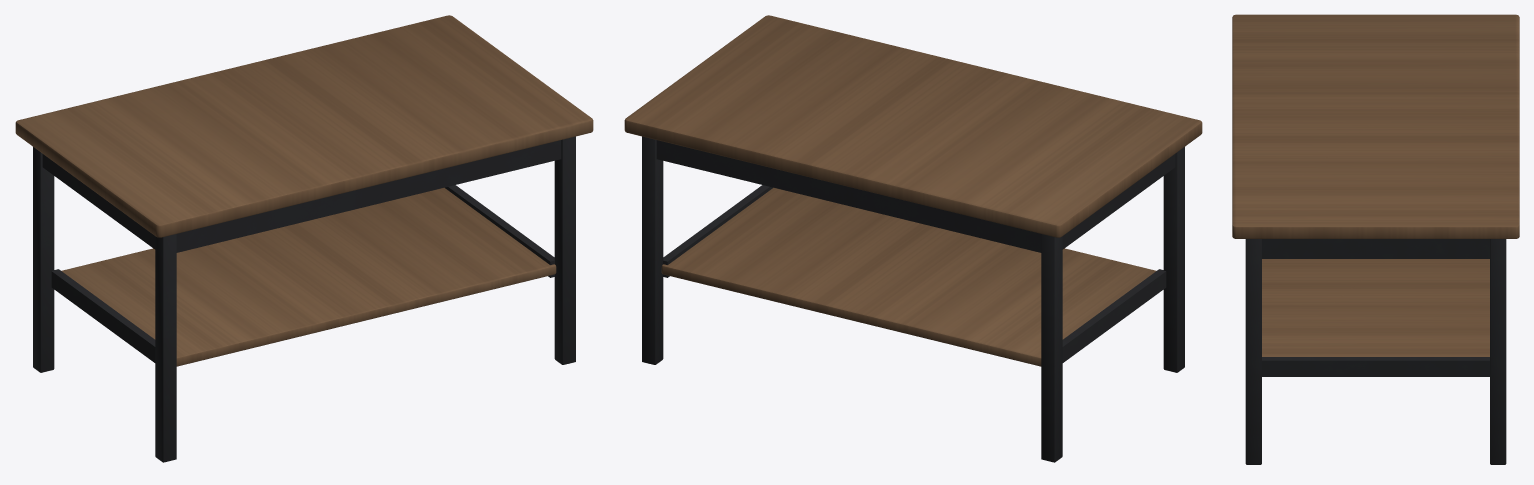
Rendered from merch_table.glb.
3 renders of one model, left to right at view 1: azimuth 30°, elevation 25°; view 2: azimuth 150°, elevation 25°; view 3: azimuth 270°, elevation 25°, orthographic.
Visible parts, largest first — view 1: Top, Lower_Shelf, Apron_F, Leg_01, Leg_02, Leg_04, Shelf_Rail_L, Apron_L, Shelf_Rail_R; view 2: Top, Lower_Shelf, Apron_B, Leg_04, Leg_03, Leg_01, Shelf_Rail_L, Apron_L, Shelf_Rail_R; view 3: Top, Lower_Shelf, Apron_R, Shelf_Rail_R, Leg_02, Leg_03.
Part boxes in pixels (<box>): Top: <box>15,15,593,237</box>; Lower_Shelf: <box>61,187,556,366</box>; Apron_F: <box>176,140,561,252</box>; Leg_01: <box>155,234,176,462</box>; Leg_02: <box>554,136,575,364</box>; Leg_04: <box>33,147,54,372</box>; Shelf_Rail_L: <box>51,269,155,362</box>; Apron_L: <box>42,154,155,249</box>; Shelf_Rail_R: <box>445,185,554,277</box>; Top: <box>624,15,1202,237</box>; Lower_Shelf: <box>661,187,1156,366</box>; Apron_B: <box>656,140,1041,252</box>; Leg_04: <box>1041,234,1062,462</box>; Leg_03: <box>642,136,663,364</box>; Leg_01: <box>1163,147,1184,372</box>; Shelf_Rail_L: <box>1062,269,1166,362</box>; Apron_L: <box>1062,154,1175,249</box>; Shelf_Rail_R: <box>663,185,772,277</box>; Top: <box>1232,14,1519,238</box>; Lower_Shelf: <box>1262,259,1489,356</box>; Apron_R: <box>1262,239,1489,258</box>; Shelf_Rail_R: <box>1262,357,1489,376</box>; Leg_02: <box>1245,239,1261,464</box>; Leg_03: <box>1490,239,1506,464</box>.
Bounding box in the file's own units: 1.4 × 0.75 × 0.8.
4 materials, 3 textured.
